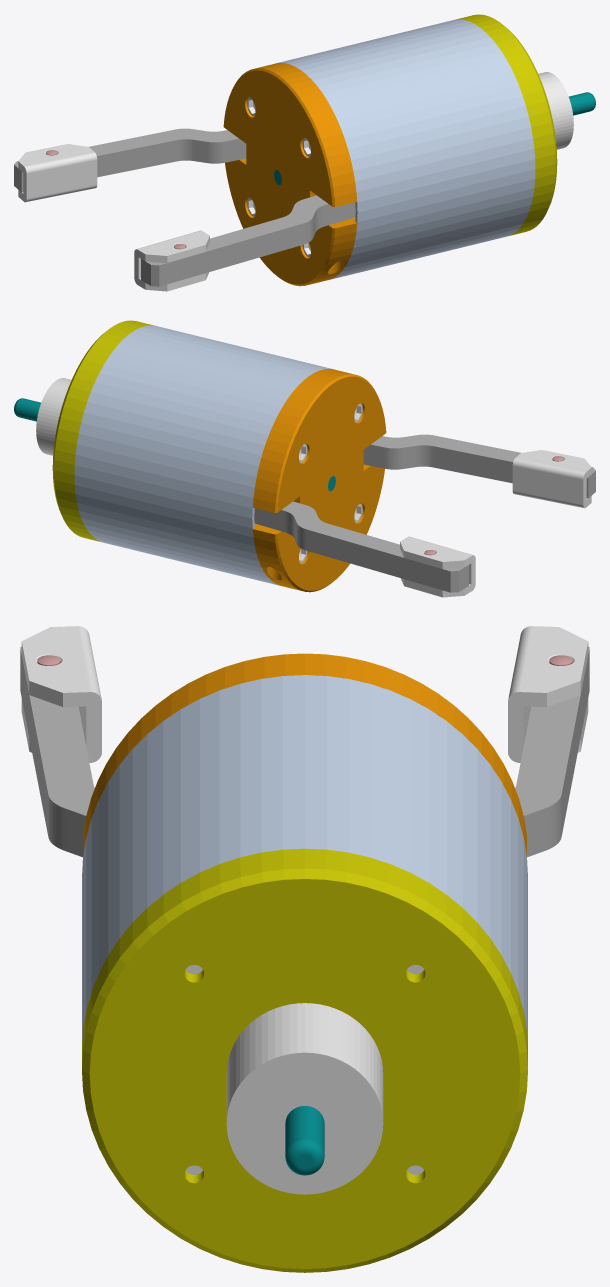
Rendered from Greifer.fbx.
3 views of the same model, one above another, from view 1: azimuth 30°, elevation 25°; view 2: azimuth 150°, elevation 25°; view 3: azimuth 270°, elevation 25° (orthographic). The views are drawn at different scales.
Visible parts, largest first — view 1: Object0111, Object, Object0129, Object0112, Object0127, Object0125, Object01, AUFNAHME, Object 111, Object0123; view 2: Object0111, Object, Object0127, Object0112, Object0129, Object01, Object0125, AUFNAHME, Object 111, Object0123; view 3: Object0112, Object0111, AUFNAHME, Object, Object0129, Object0127, Object01, Object0125, Object0123.
Boxes of the visible parts, box(x1,y1,x2,y2) form: Object0111: box(278, 19, 535, 279); Object: box(223, 63, 357, 286); Object0129: box(141, 195, 355, 286); Object0112: box(454, 14, 557, 236); Object0127: box(14, 128, 246, 192); Object0125: box(18, 144, 97, 202); Object01: box(134, 230, 209, 291); AUFNAHME: box(538, 72, 573, 149); Object 111: box(357, 191, 444, 222); Object0123: box(569, 92, 595, 115); Object0111: box(74, 325, 331, 585); Object: box(252, 369, 386, 592); Object0127: box(254, 501, 468, 592); Object0112: box(52, 320, 155, 542); Object0129: box(363, 434, 595, 498); Object01: box(512, 450, 591, 508); Object0125: box(400, 536, 475, 597); AUFNAHME: box(36, 378, 71, 455); Object 111: box(164, 497, 252, 518); Object0123: box(14, 398, 40, 421); Object0112: box(82, 848, 527, 1272); Object0111: box(82, 675, 527, 1045); AUFNAHME: box(226, 1003, 383, 1194); Object: box(83, 653, 526, 855); Object0129: box(20, 646, 94, 857); Object0127: box(515, 646, 589, 857); Object01: box(21, 626, 101, 762); Object0125: box(508, 626, 588, 762); Object0123: box(285, 1106, 324, 1175).
Size of the model in its own units: 303 by 114 by 146.
